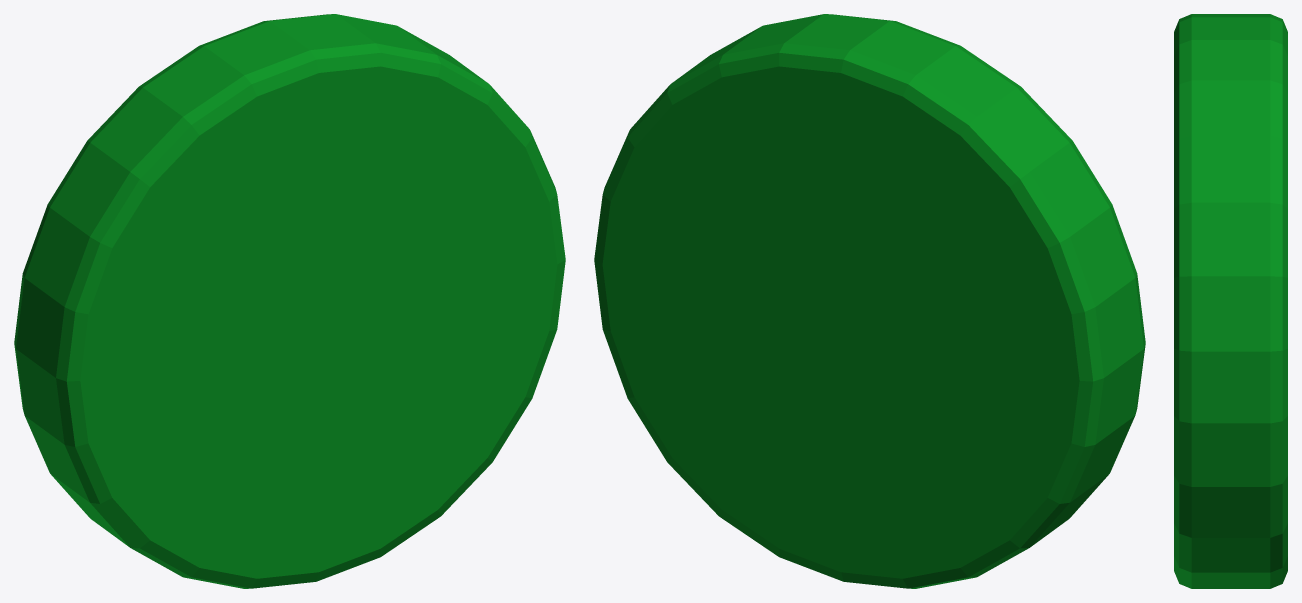
The model's file is SM_BarrierGreenLens.fbx.
3 views of the same model, side by side, from view 1: azimuth 30°, elevation 25°; view 2: azimuth 150°, elevation 25°; view 3: azimuth 270°, elevation 25° (orthographic).
Parts seen in each view (by area): view 1: SM_BarrierGreenLens; view 2: SM_BarrierGreenLens; view 3: SM_BarrierGreenLens.
Boxes of the visible parts, bbox=[...] form: SM_BarrierGreenLens: bbox=[14, 14, 565, 588]; SM_BarrierGreenLens: bbox=[594, 14, 1145, 588]; SM_BarrierGreenLens: bbox=[1174, 14, 1287, 588].
Size of the model in its own units: 6.6 by 1.3 by 6.6.
